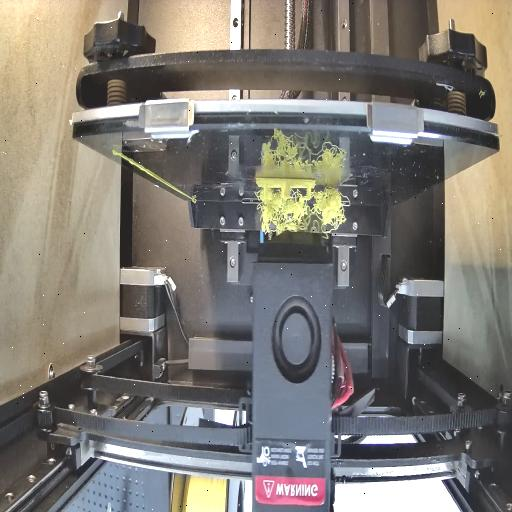spaghetti: (250, 188, 338, 240)
